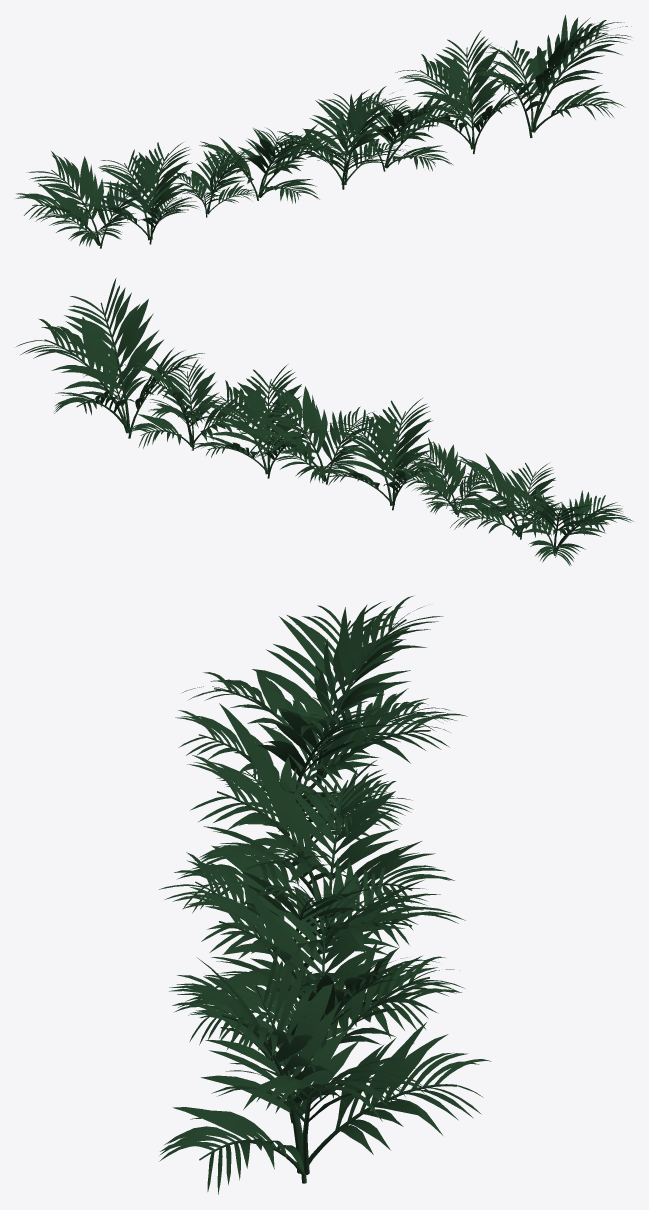
The model's file is Farm.fbx.
3 views of the same model, one above another, from view 1: azimuth 30°, elevation 25°; view 2: azimuth 150°, elevation 25°; view 3: azimuth 270°, elevation 25° (orthographic). The views are drawn at different scales.
Parts seen in each view (by area): view 1: Palm_018, Palm_017, Palm_016, Palm_012, Palm_015, Palm_013, Palm_014, Palm_03, Palm_06, Palm_02, Palm_04; view 2: Palm_018, Palm_012, Palm_013, Palm_015, Palm_017, Palm_016, Palm_014, Palm_06, Palm_03, Palm_04; view 3: Palm_018, Palm_013, Palm_016, Palm_015, Palm_012, Palm_017, Palm_05, Palm_014, Palm_06, Palm_04, Palm_03, Palm_02.
Boxes of the visible parts, x1,y1,x2,y2 form: Palm_018: (475, 15, 631, 137); Palm_017: (395, 30, 532, 153); Palm_016: (15, 151, 153, 248); Palm_012: (269, 86, 409, 189); Palm_015: (82, 142, 199, 244); Palm_013: (199, 124, 351, 203); Palm_014: (163, 148, 259, 217); Palm_03: (387, 90, 474, 164); Palm_06: (376, 100, 456, 168); Palm_02: (387, 145, 453, 171); Palm_04: (366, 98, 422, 167); Palm_018: (16, 278, 204, 438); Palm_012: (236, 382, 379, 484); Palm_013: (314, 398, 448, 510); Palm_015: (449, 453, 574, 539); Palm_017: (127, 357, 251, 450); Palm_016: (494, 484, 633, 565); Palm_014: (391, 437, 492, 517); Palm_06: (224, 364, 302, 471); Palm_03: (194, 380, 275, 474); Palm_04: (191, 436, 268, 473); Palm_018: (159, 947, 491, 1194); Palm_013: (174, 747, 454, 925); Palm_016: (182, 596, 449, 784); Palm_015: (175, 688, 466, 837); Palm_012: (159, 852, 465, 1011); Palm_017: (188, 940, 465, 1123); Palm_05: (250, 878, 386, 989); Palm_014: (216, 751, 413, 882); Palm_06: (184, 875, 315, 994); Palm_04: (329, 955, 461, 1038); Palm_03: (211, 957, 376, 1015); Palm_02: (172, 976, 290, 1045).
Bounding box in the file's own units: 21.41 × 4.61 × 5.15.
